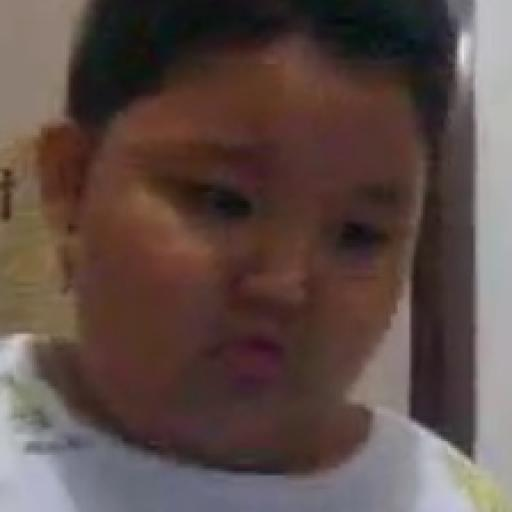Autism: (16, 0, 406, 490)
